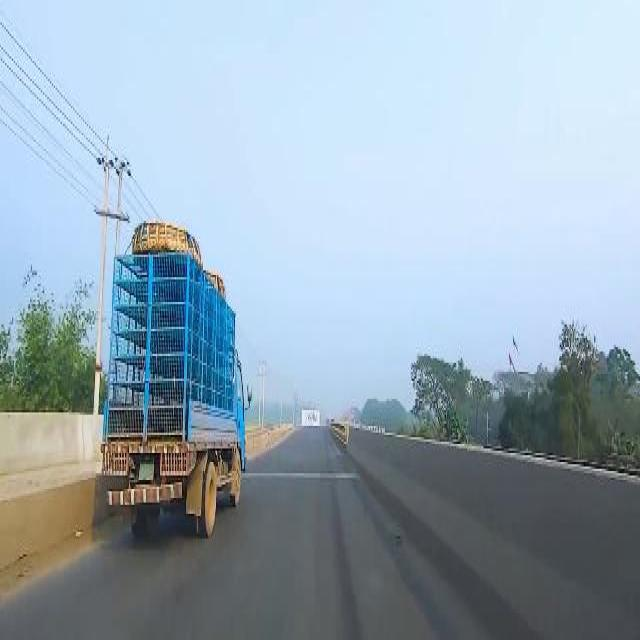truck: (106, 216, 247, 534)
